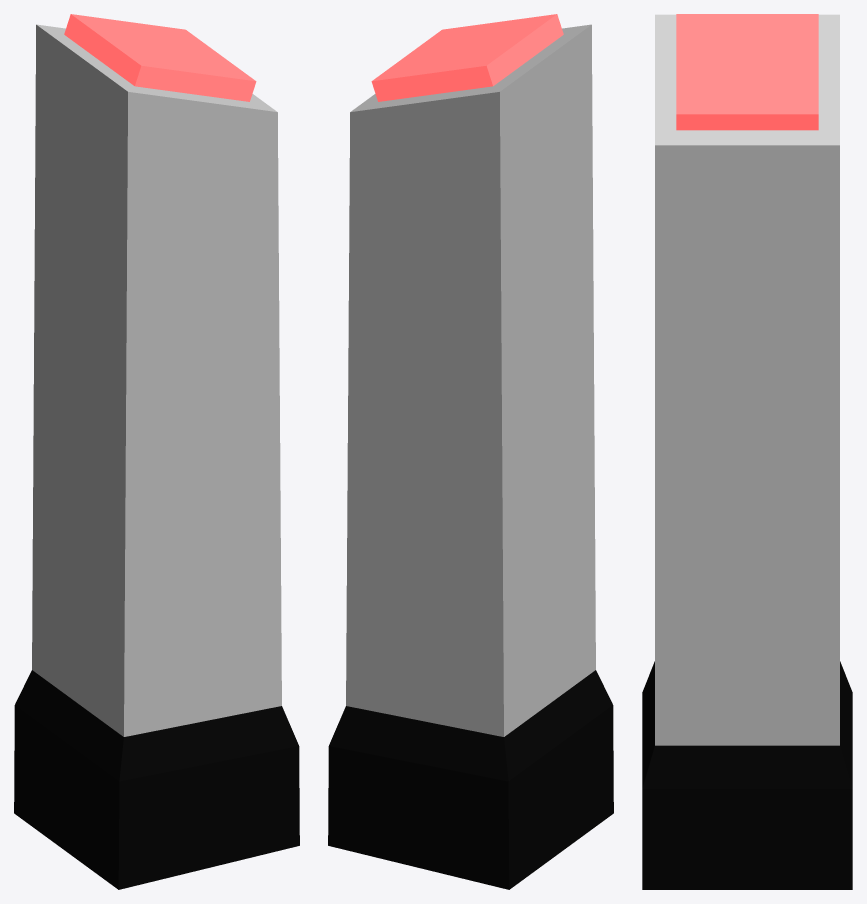
The model's file is ButtonRed.glb.
3 renders of one model, left to right at view 1: azimuth 30°, elevation 25°; view 2: azimuth 150°, elevation 25°; view 3: azimuth 270°, elevation 25°, orthographic.
Parts seen in each view (by area): view 1: Cube; view 2: Cube; view 3: Cube.
Part boxes in pixels (x1,y1,x2,y2): Cube: [14, 14, 299, 889]; Cube: [328, 14, 613, 889]; Cube: [642, 14, 852, 889].
Bounding box in the file's own units: 0.2882 × 1.22 × 0.2882.
